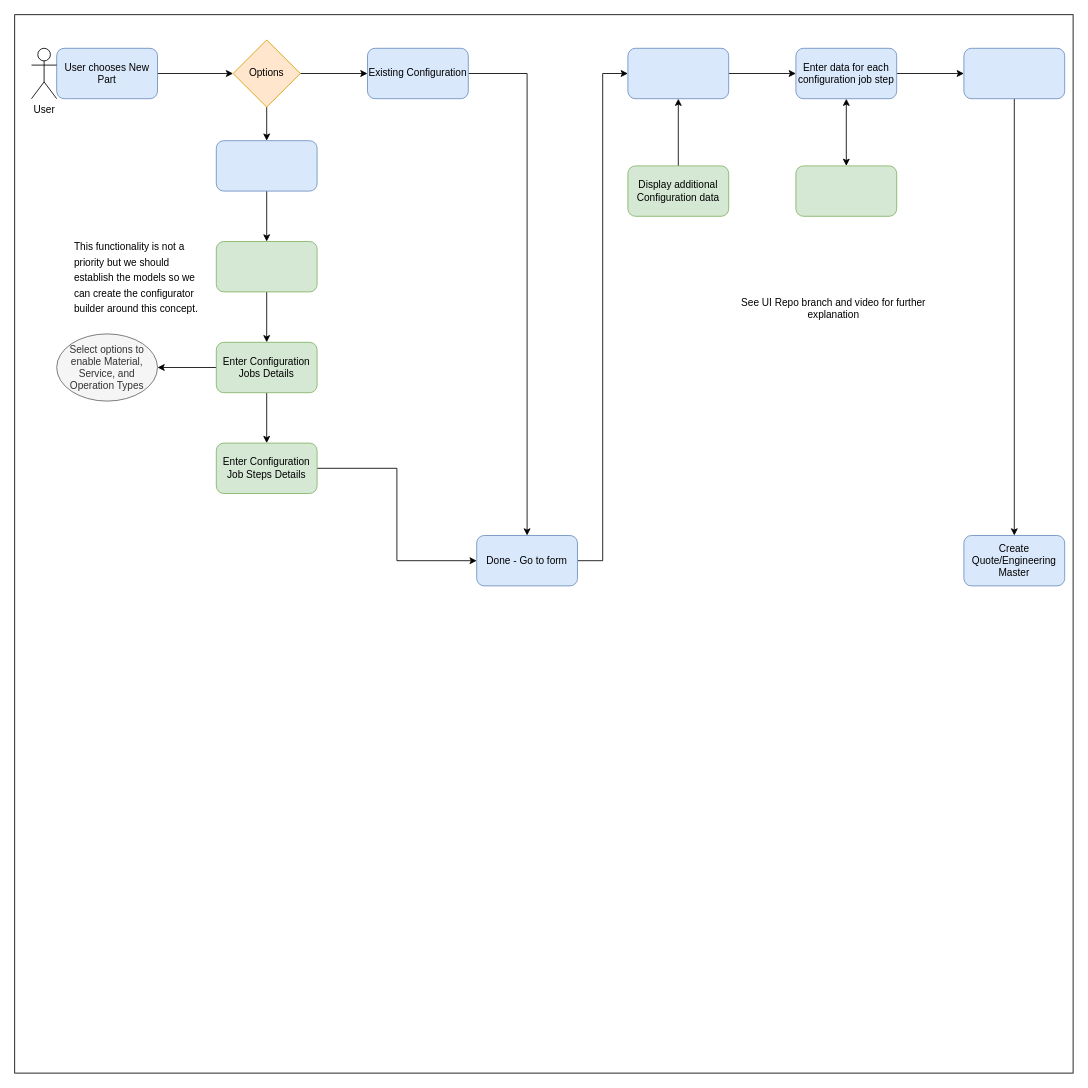
The diagram is 1088 pixels wide and 1088 high, and some of its shapes have lost their labels. Each missing label, with the centre of its shape:
Each Configuration Job generates a new operation: point (1014, 73)
Enter Configuration Details: point (266, 266)
Enter Part ID or it is generated based on config.: point (678, 73)
New Configuration: point (266, 165)
Utilize Operation Types from Visual to pre-populate costs: point (846, 190)
